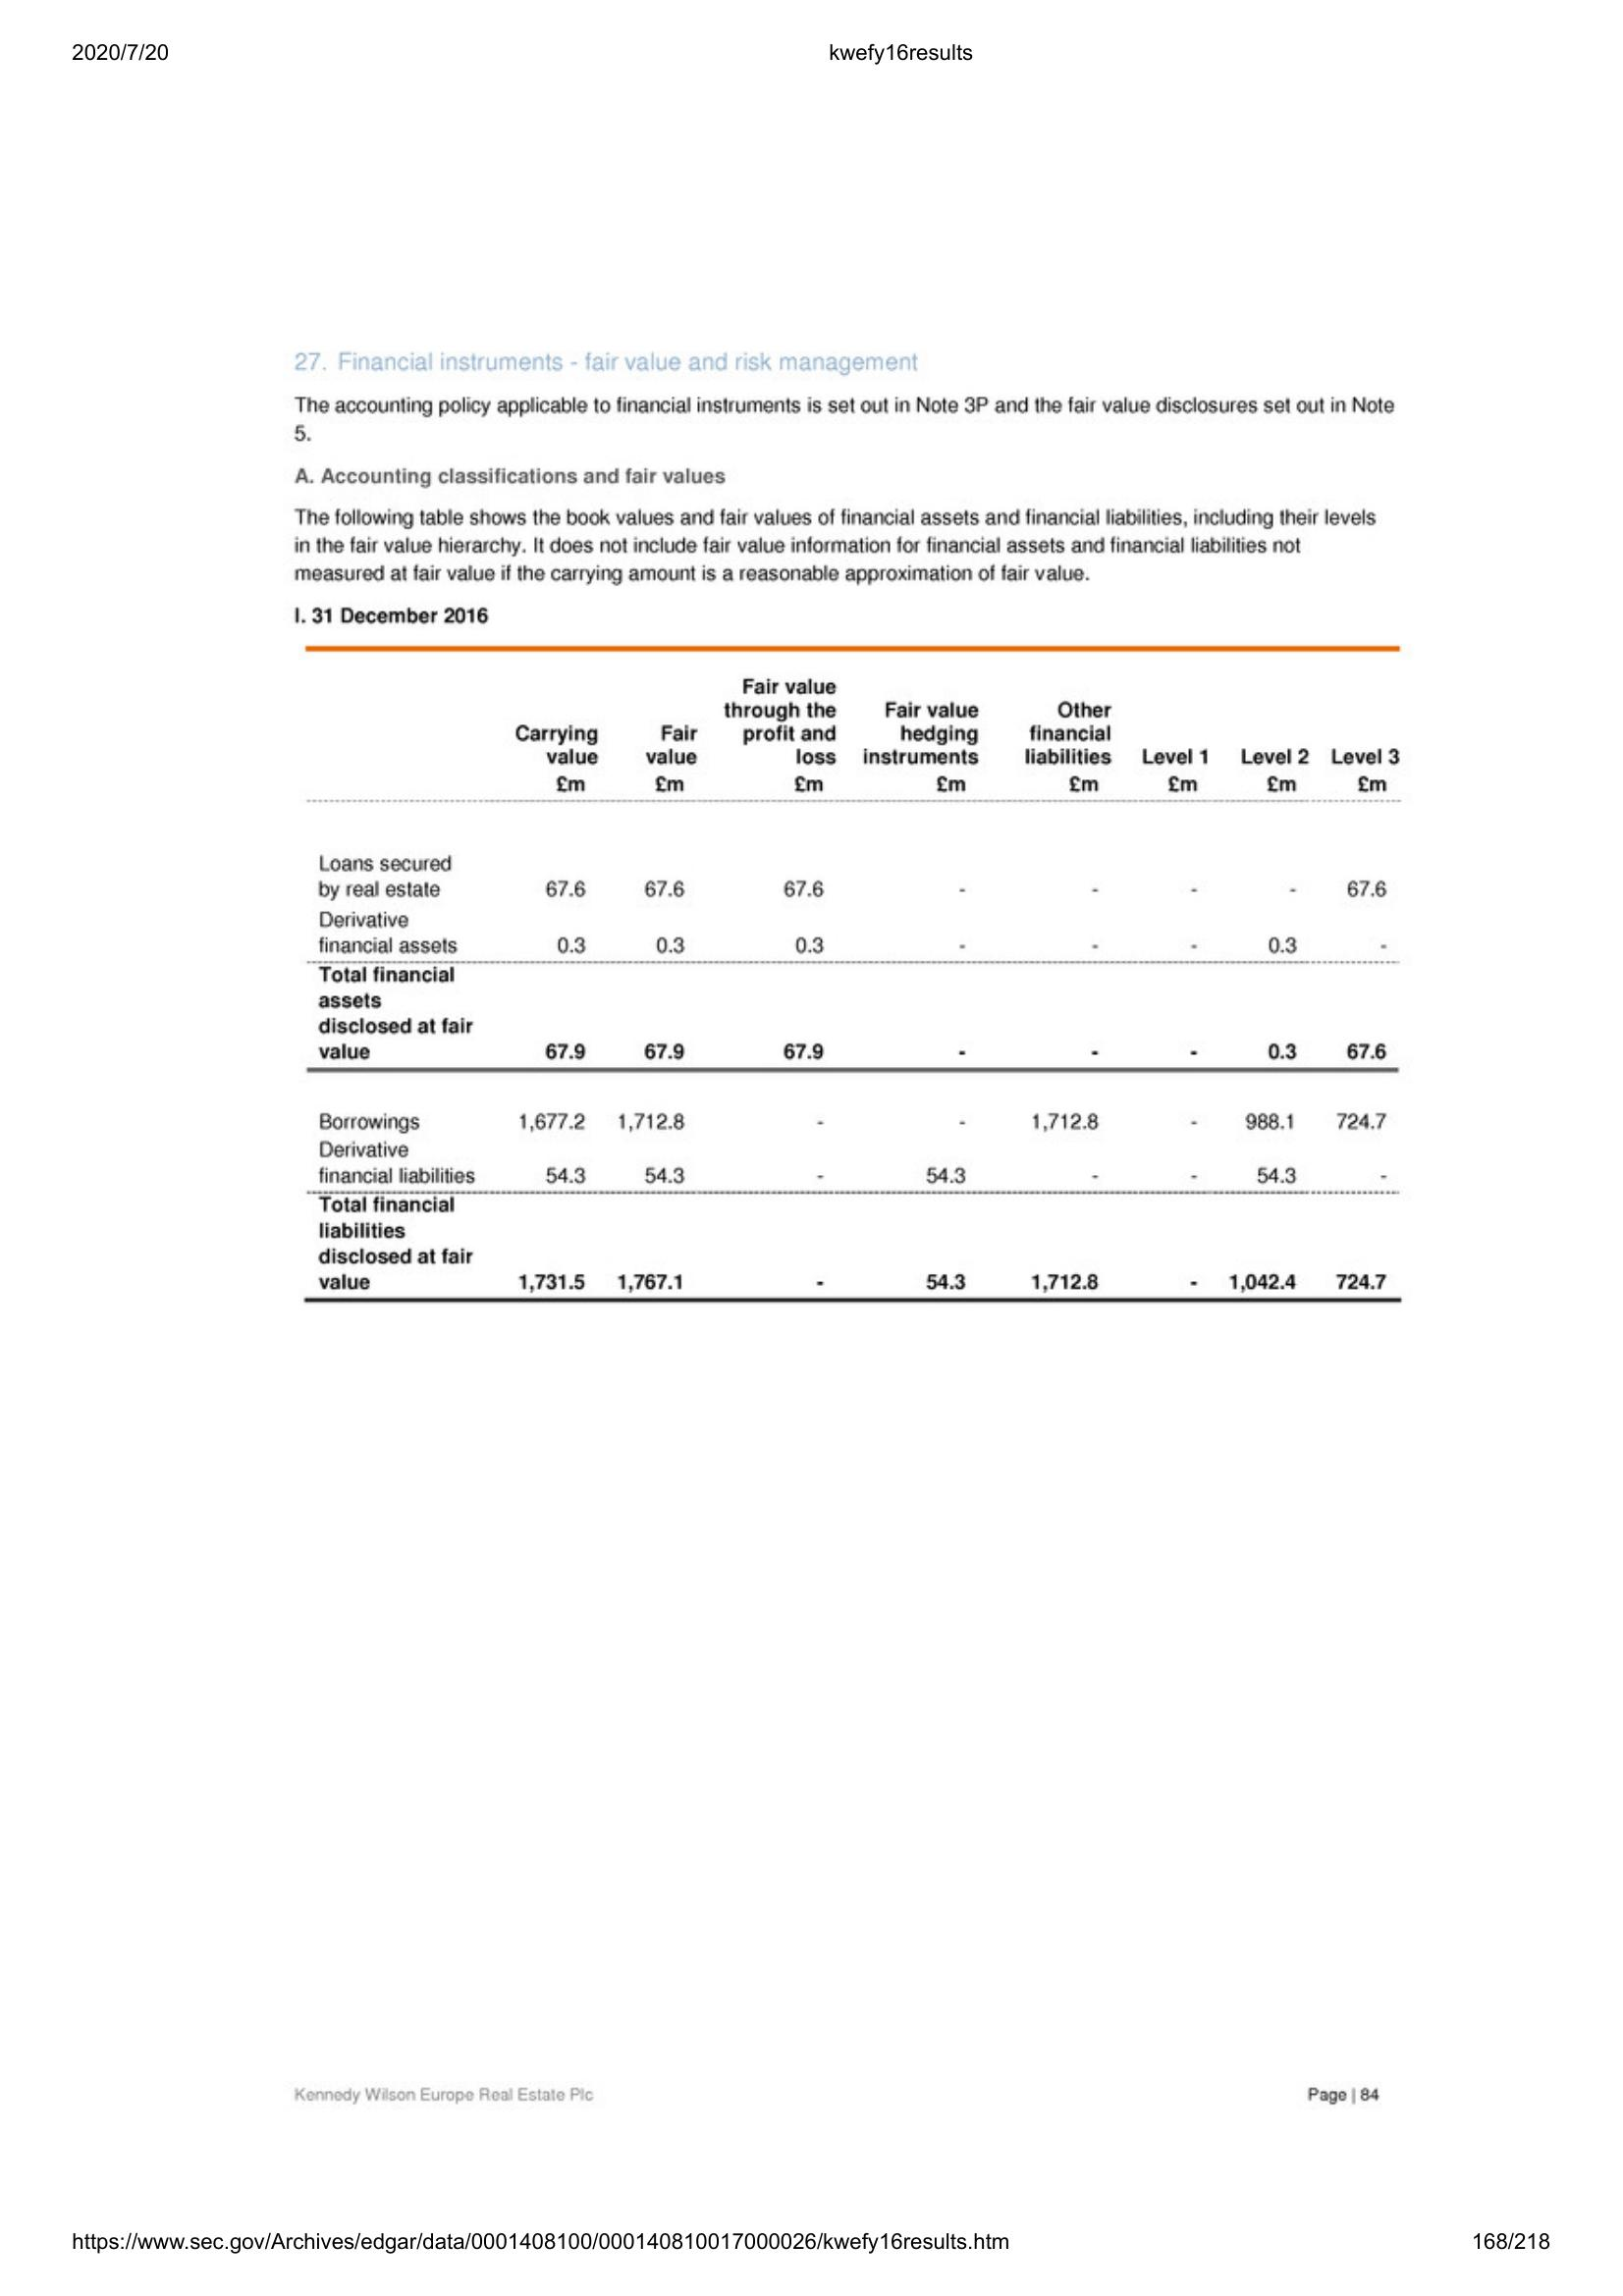table: (304, 641, 1409, 1311)
